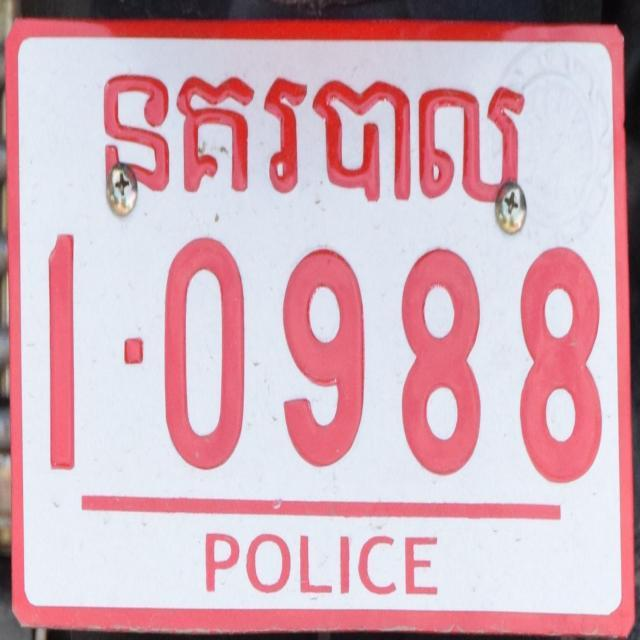Police: (96, 48, 526, 227)
